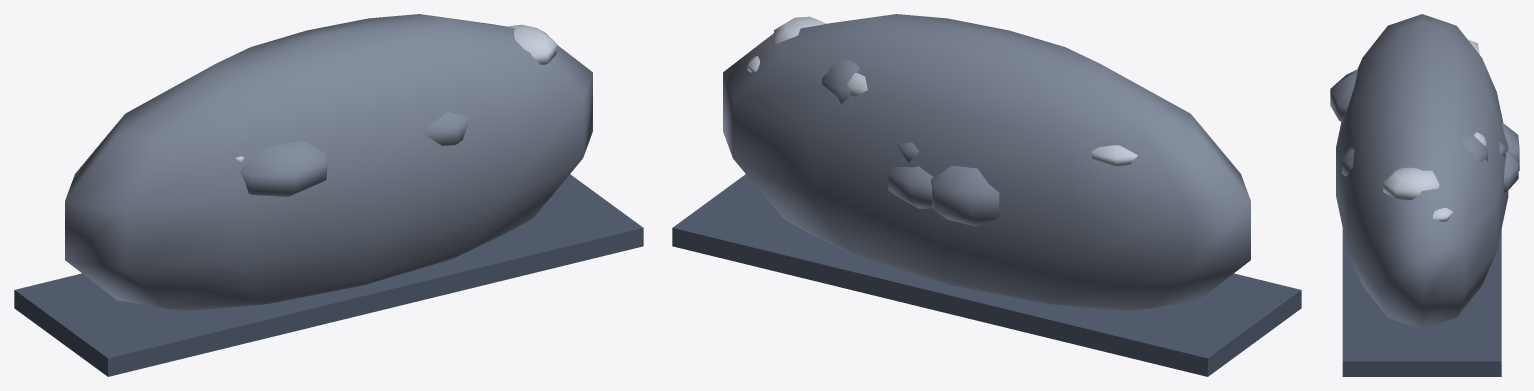
File: 圆形绿篱.glb
3 renders of one model, left to right at view 1: azimuth 30°, elevation 25°; view 2: azimuth 150°, elevation 25°; view 3: azimuth 270°, elevation 25°, orthographic. The views are drawn at different scales.
Visible parts, largest first — view 1: garden-hedge-round-leaf, garden-hedge-round-soil, garden-hedge-round-light; view 2: garden-hedge-round-leaf, garden-hedge-round-soil, garden-hedge-round-light; view 3: garden-hedge-round-leaf, garden-hedge-round-soil, garden-hedge-round-light.
Part boxes in pixels (x1,y1,x2,y2): garden-hedge-round-leaf: (65,14,592,310); garden-hedge-round-soil: (14,174,643,376); garden-hedge-round-light: (235,24,556,161); garden-hedge-round-leaf: (723,14,1250,310); garden-hedge-round-soil: (672,174,1301,376); garden-hedge-round-light: (747,16,1137,166); garden-hedge-round-leaf: (1330,14,1519,329); garden-hedge-round-soil: (1342,228,1501,376); garden-hedge-round-light: (1383,39,1486,221).
Size of the model in its own units: 1.8 by 0.85 by 0.65.
